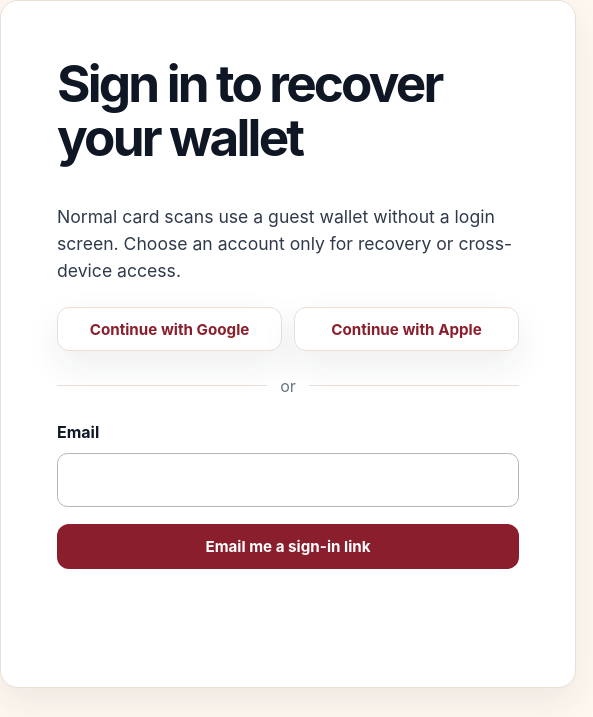
AuthPanel anonymous upgrade › shows an accessible error and re-enables providers when OAuth cannot start
Step 1. Click the button "Continue with Apple" → [406, 329], box [294,307,519,352]
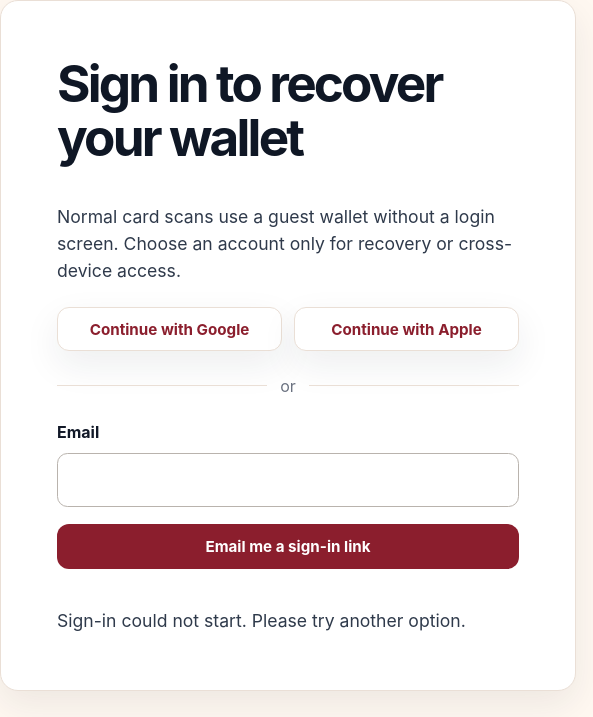
Now the message "Sign-in could not start. Please try another option." is shown, box [57,607,519,634]
